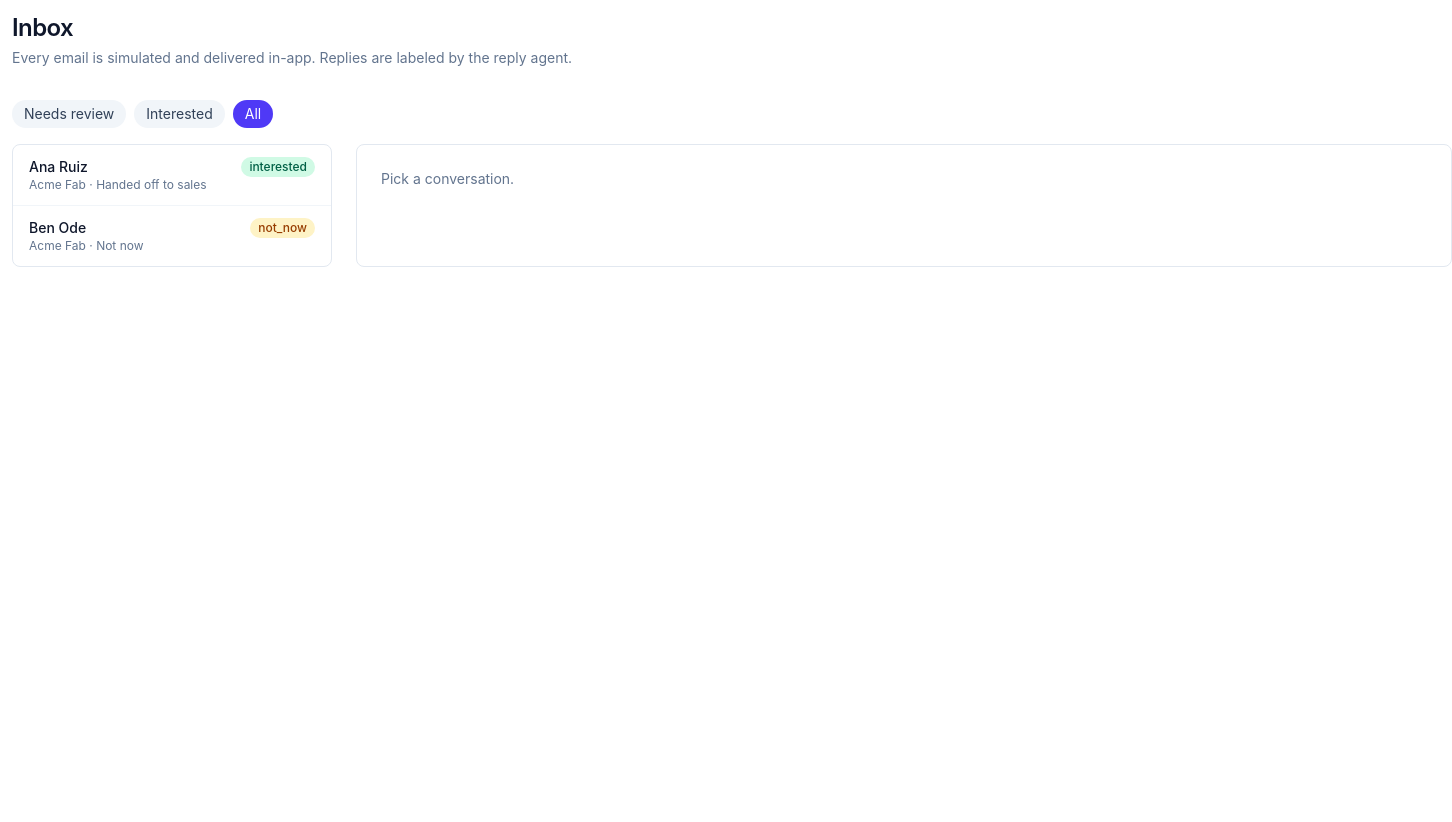
Test case: shows simulated delivery badge
The width and height of the screenshot is (1452, 822).
Click the button "Ana Ruiz interested Acme Fab · Handed off to sales". click: (172, 175)
box: [13,145,331,205]
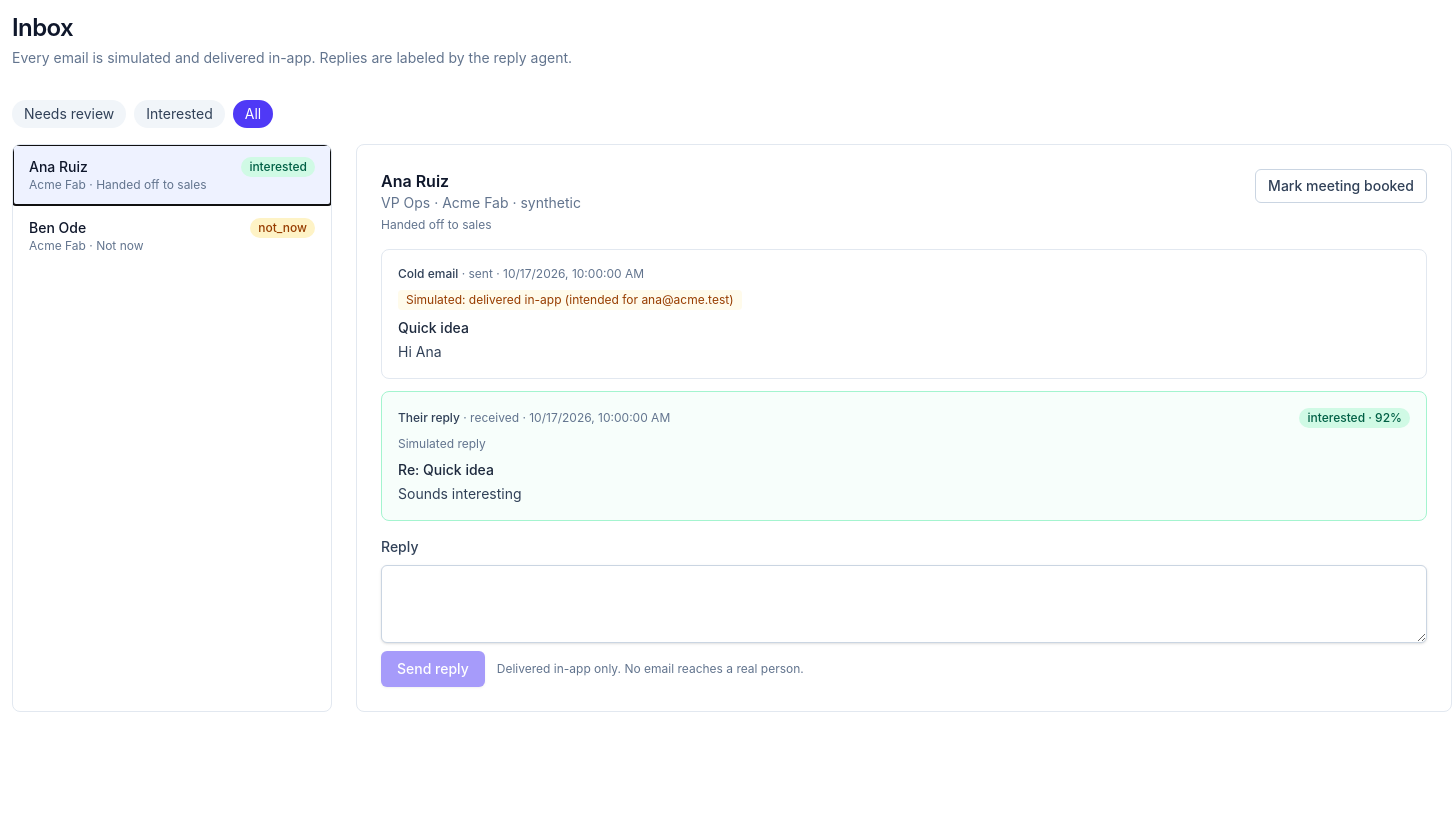
Now the text "Simulated: delivered in-app (intended for ana@acme.test)" is shown, box [398,290,742,310]
Now the text "interested · 92%" is shown, box [1300,408,1410,428]
